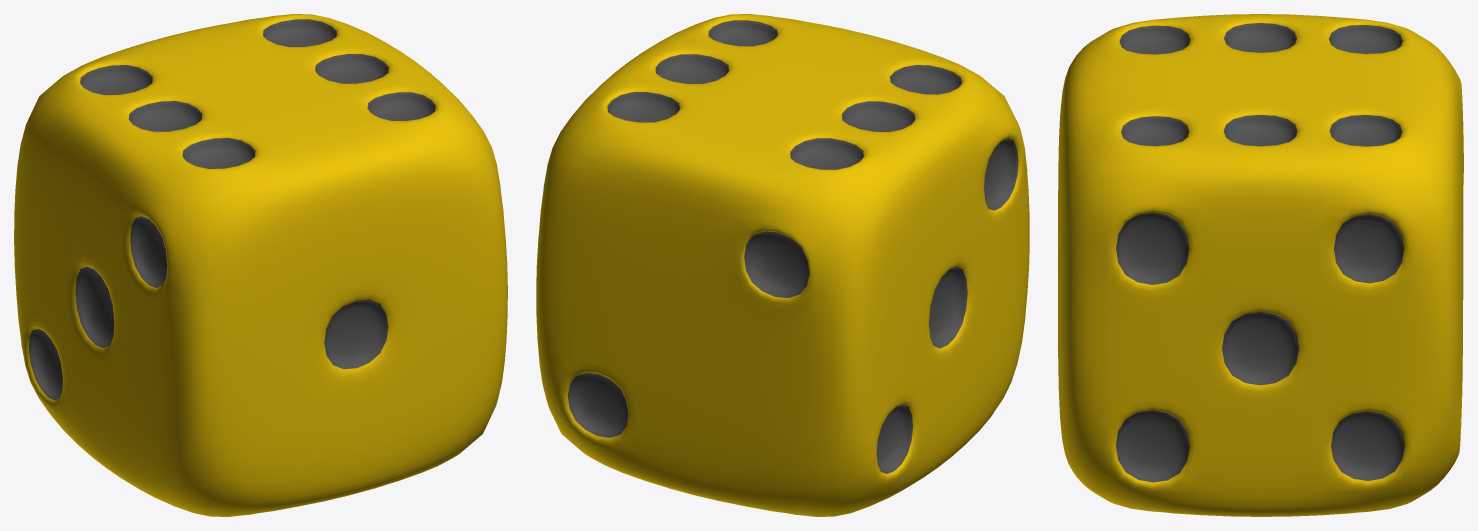
Rendered from goldDie.fbx.
The picture shows the model from 3 angles, left to right: view 1: azimuth 30°, elevation 25°; view 2: azimuth 150°, elevation 25°; view 3: azimuth 270°, elevation 25°; orthographic projection. The views are drawn at different scales.
Visible parts, largest first — view 1: goldDie; view 2: goldDie; view 3: goldDie.
Part boxes in pixels (left/top/right/bottom): goldDie: left=14, top=14, right=507, bottom=516; goldDie: left=536, top=14, right=1029, bottom=516; goldDie: left=1058, top=14, right=1463, bottom=516.
Size of the model in its own units: 8.97 by 8.97 by 8.95.
